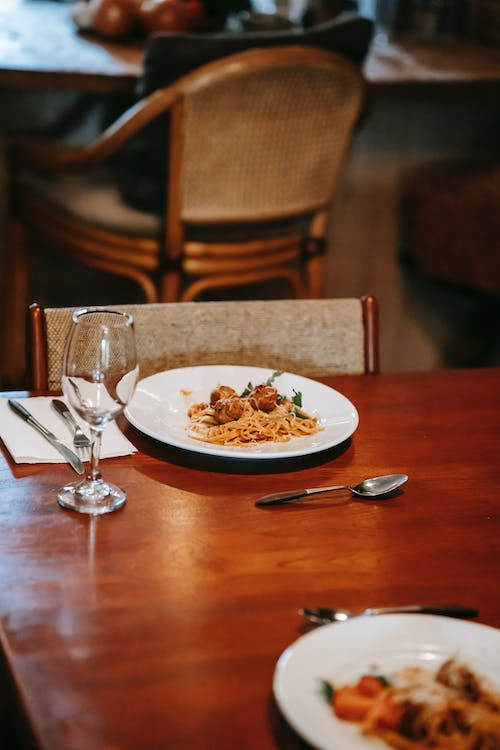knife: (8, 397, 88, 475)
